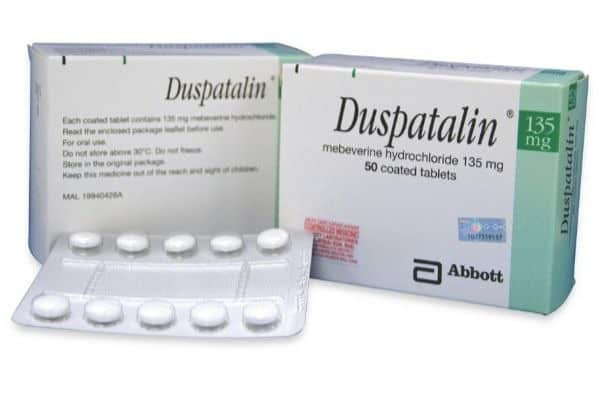Medicine: (274, 56, 589, 316), (21, 37, 279, 236)
